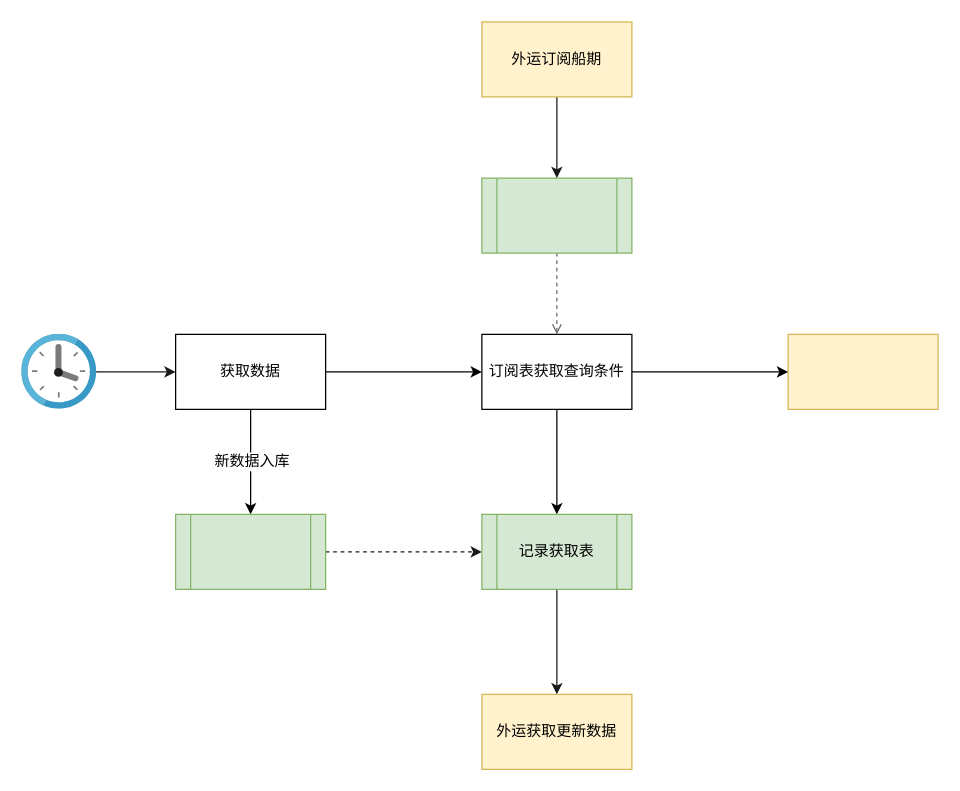
Image size: 960x791. Some labels were removed from this diagram. The box of each missing label's shape, as (x1, y1, x2, y2) in pixels:
宁波船期服务: (787, 333, 938, 409)
船期记录表: (174, 513, 326, 589)
订阅表: (481, 177, 632, 253)
